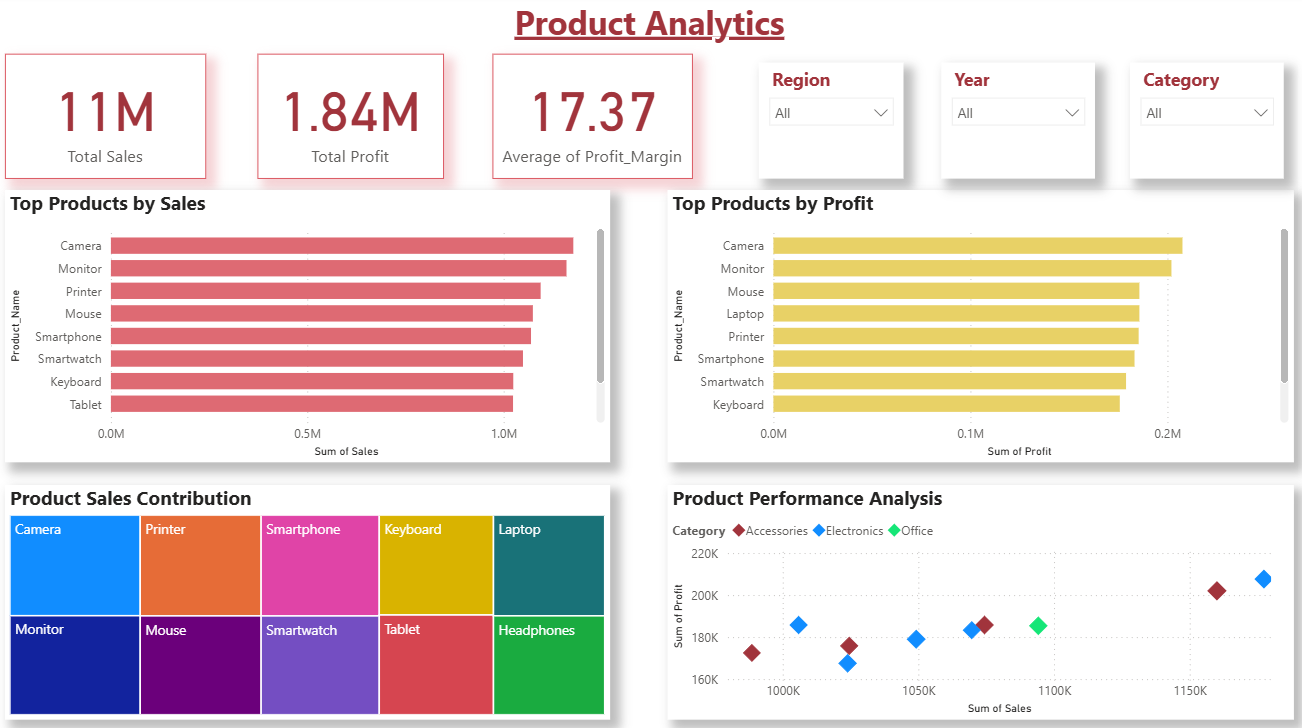

Layout of this report page (visuals, bound fields, positions):
{"tool":"powerbi","page":{"name":"Product Analytics","canvas":[1280,720],"ordinal":1},"visuals":[{"type":"textbox","box":[9.8,0,1260.7,57.5],"z":0},{"type":"card","fields":{"Values":["ecommerce_sales_cleaned.Total Sales"]},"box":[9.8,57.5,196.9,122.3],"z":1000},{"type":"card","fields":{"Values":["ecommerce_sales_cleaned.Total Profit"]},"box":[256.8,57.5,182.2,122.3],"z":2000},{"type":"card","fields":{"Values":["Avg(ecommerce_sales_cleaned.Profit_Margin)"]},"box":[486.7,57.5,195.7,122.3],"z":3000},{"type":"slicer","fields":{"Values":["ecommerce_sales_cleaned.Region"]},"box":[747.2,66,141.8,113.7],"z":4000},{"type":"clusteredBarChart","title":"Top Products by Sales","fields":{"Category":["ecommerce_sales_cleaned.Product_Name"],"Y":["Sum(ecommerce_sales_cleaned.Sales)"]},"box":[9.8,190.8,591.9,266.6],"z":5000},{"type":"clusteredBarChart","title":"Top Products by Profit","fields":{"Category":["ecommerce_sales_cleaned.Product_Name"],"Y":["Sum(ecommerce_sales_cleaned.Profit)"]},"box":[657.9,190.8,612.6,266.6],"z":6000},{"type":"treemap","title":"Product Sales Contribution","fields":{"Group":["ecommerce_sales_cleaned.Product_Name"],"Values":["Sum(ecommerce_sales_cleaned.Sales)"]},"box":[9.8,479.4,591.9,229.9],"z":7000},{"type":"scatterChart","title":"Product Performance Analysis","fields":{"Y":["Sum(ecommerce_sales_cleaned.Profit)"],"X":["Sum(ecommerce_sales_cleaned.Sales)"],"Size":["Sum(ecommerce_sales_cleaned.Quantity)"],"Series":["ecommerce_sales_cleaned.Category"],"Category":["ecommerce_sales_cleaned.Product_Name"]},"box":[657.9,479.4,612.6,229.9],"z":8000},{"type":"slicer","fields":{"Values":["ecommerce_sales_cleaned.Year"]},"box":[925.7,66,150.4,113.7],"z":9000},{"type":"slicer","fields":{"Values":["ecommerce_sales_cleaned.Category"]},"box":[1110.3,66,150.4,113.7],"z":10000}]}

Visuals, with their boxes in screenshot pixels (x1, y1, x2, y2), scaled from the page's 1280x720 canvas onto the 1302x728 screenshot:
textbox: 10, 0, 1292, 58
card - ecommerce_sales_cleaned.Total Sales: 10, 58, 210, 182
card - ecommerce_sales_cleaned.Total Profit: 261, 58, 447, 182
card - Avg(ecommerce_sales_cleaned.Profit_Margin): 495, 58, 694, 182
slicer - ecommerce_sales_cleaned.Region: 760, 67, 904, 182
"Top Products by Sales" clusteredBarChart: 10, 193, 612, 462
"Top Products by Profit" clusteredBarChart: 669, 193, 1292, 462
"Product Sales Contribution" treemap: 10, 485, 612, 717
"Product Performance Analysis" scatterChart: 669, 485, 1292, 717
slicer - ecommerce_sales_cleaned.Year: 942, 67, 1095, 182
slicer - ecommerce_sales_cleaned.Category: 1129, 67, 1282, 182
